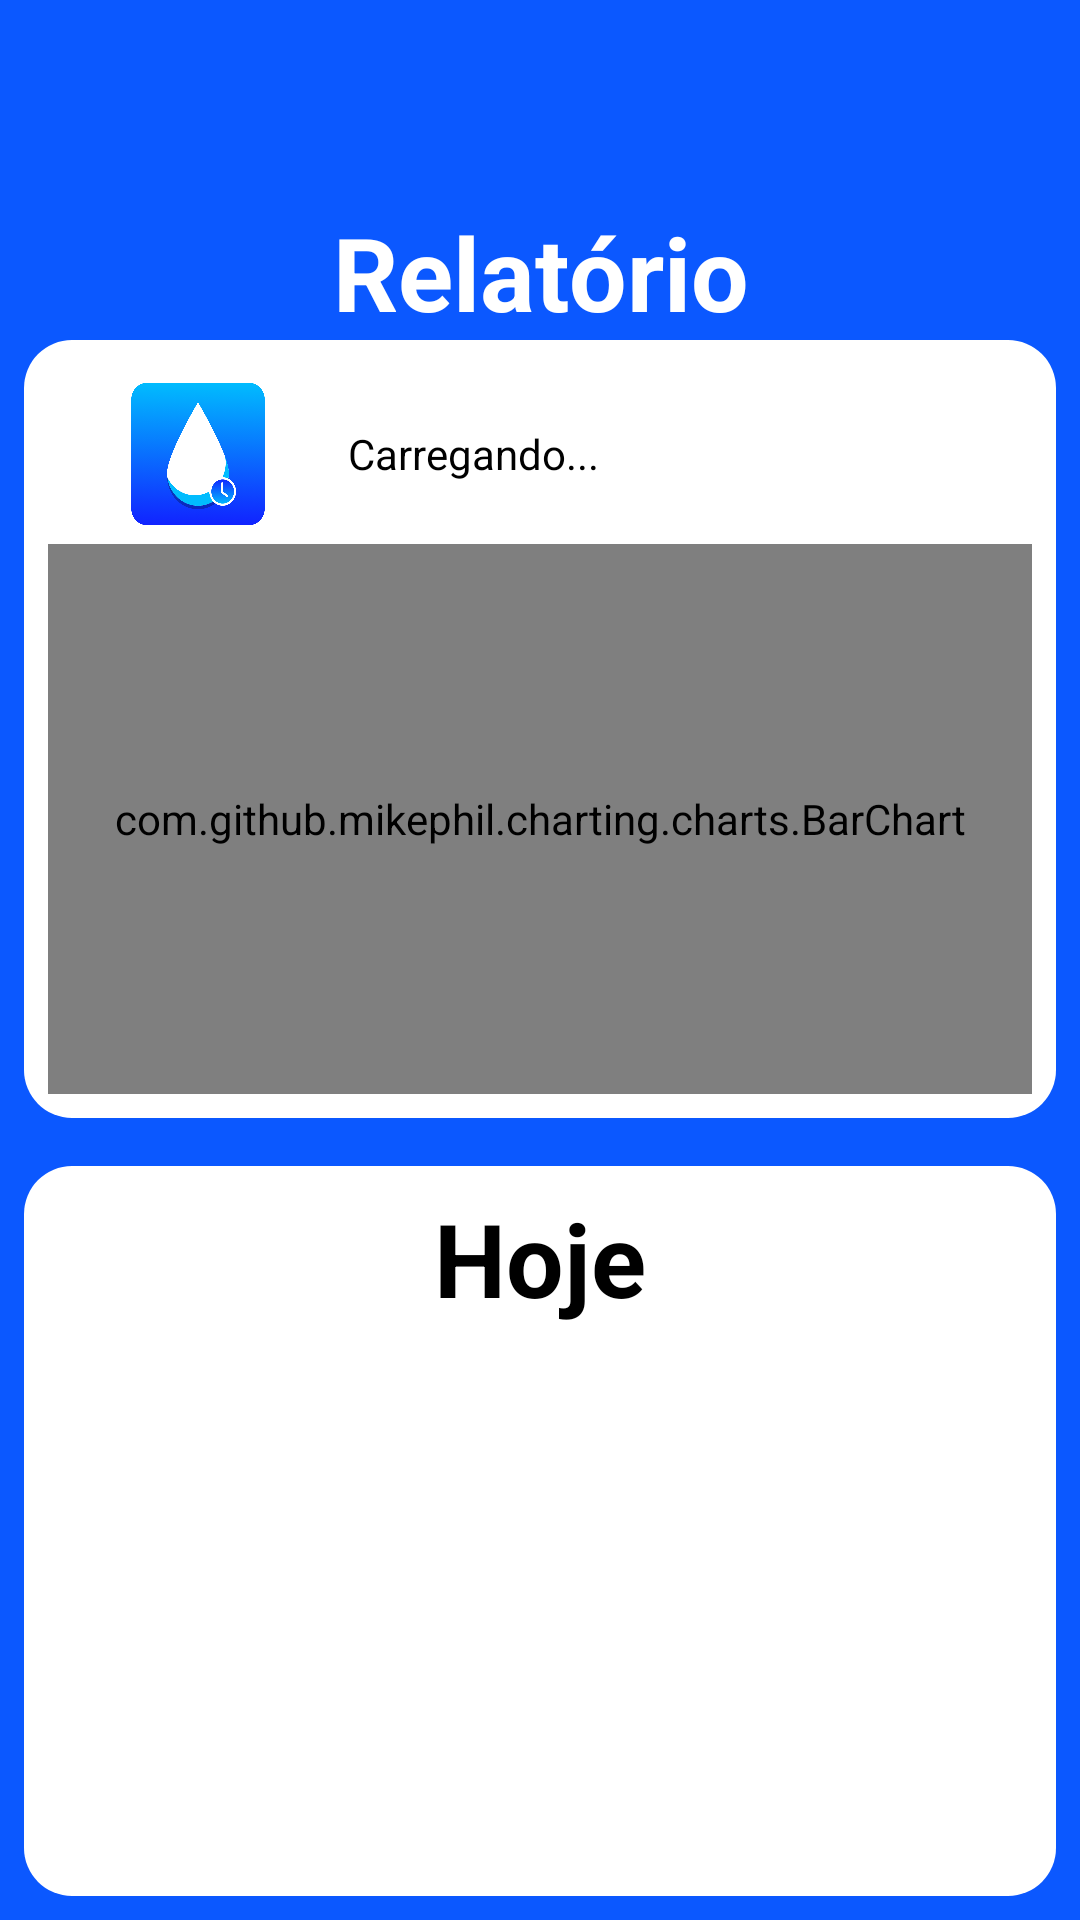

Icon bounding boxes for this 1080 × 1920 phone screenshot, format (x1, y1, x2, y2):
gota: (131, 383, 265, 525)
